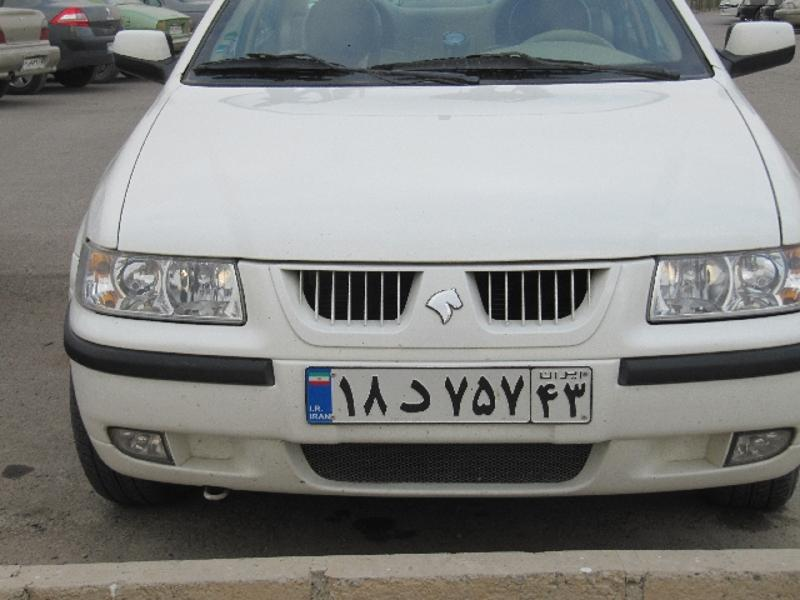Plate: (296, 361, 601, 433)
